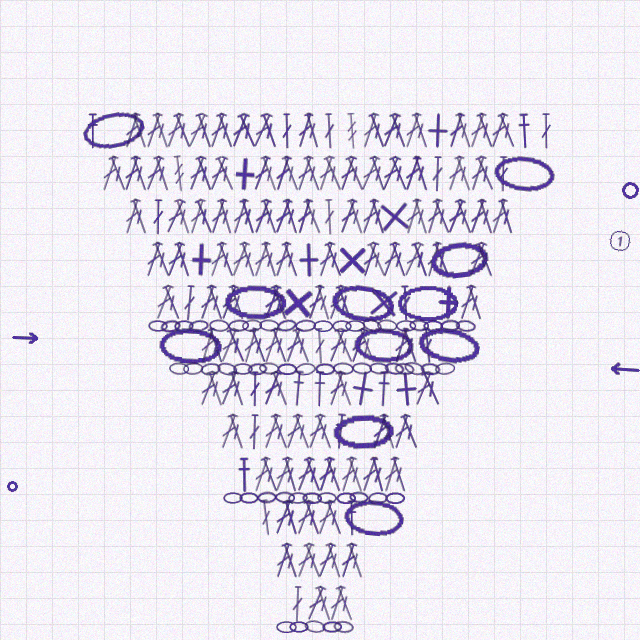chain: (80, 107, 147, 154), (415, 323, 482, 368), (329, 281, 396, 325), (492, 153, 557, 195), (428, 238, 491, 281), (342, 497, 405, 538), (158, 326, 222, 365), (353, 326, 415, 365), (332, 413, 394, 451), (224, 284, 286, 321), (397, 285, 458, 321), (403, 360, 426, 377), (361, 317, 383, 334), (216, 361, 238, 377), (304, 619, 326, 634), (276, 318, 298, 333), (384, 361, 405, 376), (333, 620, 354, 634), (200, 362, 221, 376), (247, 362, 268, 376), (295, 362, 316, 376), (394, 362, 415, 376), (420, 362, 441, 376), (160, 319, 181, 333), (188, 319, 209, 333), (455, 319, 476, 333), (333, 362, 354, 375), (228, 319, 249, 332), (295, 319, 316, 332), (257, 491, 277, 504), (275, 491, 295, 504), (349, 491, 369, 504), (169, 362, 189, 375), (183, 362, 203, 375), (259, 362, 279, 375), (352, 362, 372, 375), (369, 362, 389, 375), (435, 362, 455, 375), (209, 319, 229, 332), (242, 319, 262, 332), (259, 319, 279, 332), (377, 319, 397, 332), (409, 319, 429, 332), (440, 319, 460, 332), (276, 621, 297, 633), (289, 621, 309, 633), (322, 621, 342, 633), (223, 492, 243, 504), (239, 492, 259, 504), (288, 492, 308, 504), (302, 492, 322, 504), (317, 492, 337, 504), (336, 492, 356, 504), (368, 492, 388, 504), (385, 492, 405, 504), (233, 363, 253, 375), (277, 363, 297, 375), (315, 363, 335, 375), (148, 320, 168, 332), (174, 320, 194, 332), (313, 320, 333, 332), (332, 320, 352, 332), (345, 320, 365, 332), (396, 320, 416, 332), (423, 320, 443, 332)
double: (400, 241, 426, 278), (162, 198, 188, 235), (184, 112, 210, 149), (249, 112, 275, 149), (303, 585, 328, 622), (411, 370, 436, 407), (419, 370, 444, 407), (224, 327, 249, 364), (332, 327, 357, 364), (365, 241, 390, 278), (192, 198, 217, 235), (213, 155, 238, 192), (321, 155, 346, 192), (343, 155, 368, 192), (357, 155, 382, 192), (378, 155, 403, 192), (473, 155, 498, 192), (235, 112, 260, 149), (333, 585, 357, 622), (293, 542, 317, 579), (301, 542, 325, 579), (314, 542, 338, 579), (271, 499, 295, 536), (322, 499, 346, 536), (258, 456, 282, 493), (271, 456, 295, 493), (293, 456, 317, 493), (301, 456, 325, 493), (268, 413, 292, 450), (290, 413, 314, 450), (304, 413, 328, 450), (312, 413, 336, 450), (398, 413, 422, 450), (196, 370, 220, 407), (217, 370, 241, 407), (260, 370, 284, 407), (268, 370, 292, 407), (217, 327, 241, 364), (290, 327, 314, 364), (325, 327, 349, 364), (355, 327, 379, 364), (152, 284, 176, 321), (160, 284, 184, 321), (217, 284, 241, 321), (260, 284, 284, 321), (150, 241, 174, 278), (163, 241, 187, 278), (214, 241, 238, 278), (228, 241, 252, 278), (322, 241, 346, 278), (430, 241, 454, 278), (465, 241, 489, 278), (473, 241, 497, 278), (250, 198, 274, 235), (271, 198, 295, 235), (301, 198, 325, 235), (336, 198, 360, 235), (430, 198, 454, 235), (444, 198, 468, 235), (452, 198, 476, 235), (106, 155, 130, 192), (142, 155, 166, 192), (185, 155, 209, 192), (206, 155, 230, 192), (279, 155, 303, 192), (387, 155, 411, 192), (171, 112, 195, 149), (228, 112, 252, 149), (379, 112, 403, 149), (495, 112, 519, 149), (279, 542, 302, 579), (344, 542, 367, 579), (293, 499, 316, 536), (301, 499, 324, 536), (314, 499, 337, 536), (250, 456, 273, 493), (322, 456, 345, 493), (344, 456, 367, 493), (358, 456, 381, 493), (217, 413, 240, 450), (225, 413, 248, 450), (260, 413, 283, 450), (282, 413, 305, 450), (390, 413, 413, 450), (204, 370, 227, 407), (325, 370, 348, 407), (333, 370, 356, 407), (247, 327, 270, 364), (260, 327, 283, 364), (268, 327, 291, 364), (282, 327, 305, 364), (347, 327, 370, 364), (196, 284, 219, 321), (204, 284, 227, 321), (268, 284, 291, 321), (304, 284, 327, 321), (325, 284, 348, 321), (333, 284, 356, 321), (142, 241, 165, 278), (206, 241, 229, 278), (250, 241, 273, 278), (271, 241, 294, 278), (279, 241, 302, 278), (379, 241, 402, 278), (387, 241, 410, 278), (409, 241, 432, 278), (128, 198, 151, 235), (258, 198, 281, 235), (358, 198, 381, 235), (466, 198, 489, 235), (98, 155, 121, 192), (120, 155, 143, 192), (128, 155, 151, 192), (193, 155, 216, 192), (250, 155, 273, 192), (258, 155, 281, 192), (293, 155, 316, 192), (301, 155, 324, 192), (336, 155, 359, 192), (401, 155, 424, 192), (444, 155, 467, 192), (452, 155, 475, 192), (128, 112, 151, 149), (142, 112, 165, 149), (150, 112, 173, 149), (163, 112, 186, 149), (193, 112, 216, 149), (206, 112, 229, 149), (214, 112, 237, 149), (258, 112, 281, 149), (366, 112, 389, 149), (387, 112, 410, 149), (401, 112, 424, 149), (409, 112, 432, 149), (466, 112, 489, 149), (474, 112, 497, 149), (487, 112, 510, 149), (313, 585, 335, 622), (326, 585, 348, 622), (272, 542, 294, 579), (323, 542, 345, 579), (337, 542, 359, 579), (280, 499, 302, 536), (315, 456, 337, 493), (337, 456, 359, 493), (380, 456, 402, 493), (388, 456, 410, 493), (369, 413, 391, 450), (377, 413, 399, 450), (226, 370, 248, 407), (205, 327, 227, 364), (399, 327, 421, 364), (226, 284, 248, 321), (456, 284, 478, 321), (464, 284, 486, 321), (172, 241, 194, 278), (237, 241, 259, 278), (259, 241, 281, 278), (315, 241, 337, 278), (359, 241, 381, 278), (121, 198, 143, 235), (172, 198, 194, 235), (186, 198, 208, 235), (207, 198, 229, 235), (229, 198, 251, 235), (237, 198, 259, 235), (280, 198, 302, 235), (345, 198, 367, 235), (367, 198, 389, 235), (402, 198, 424, 235), (410, 198, 432, 235), (423, 198, 445, 235), (475, 198, 497, 235), (488, 198, 510, 235), (151, 155, 173, 192), (272, 155, 294, 192), (315, 155, 337, 192), (367, 155, 389, 192), (410, 155, 432, 192), (467, 155, 489, 192), (121, 112, 143, 149), (294, 112, 316, 149), (359, 112, 381, 149), (445, 112, 467, 149), (453, 112, 475, 149), (280, 456, 301, 493), (197, 327, 218, 364), (240, 327, 261, 364), (391, 327, 412, 364), (313, 284, 334, 321), (423, 241, 444, 278), (215, 198, 236, 235), (294, 198, 315, 235), (496, 198, 517, 235), (302, 112, 323, 149), (368, 456, 388, 493), (258, 499, 274, 536), (420, 327, 435, 364), (182, 285, 197, 321), (313, 328, 327, 364), (291, 586, 304, 622), (248, 414, 261, 450), (399, 285, 412, 321), (323, 199, 336, 235), (431, 156, 444, 192), (323, 113, 336, 149), (249, 371, 261, 407), (152, 199, 164, 235), (497, 156, 509, 192), (281, 113, 293, 149), (540, 113, 552, 149)
half_double: (332, 413, 349, 450), (290, 370, 306, 407), (312, 371, 327, 407), (376, 371, 391, 407), (517, 113, 532, 149), (237, 457, 251, 493), (345, 500, 358, 536), (86, 113, 99, 149)
noise: (606, 227, 634, 255), (619, 179, 640, 201), (608, 362, 640, 376), (11, 332, 40, 344), (5, 479, 19, 493)
single: (342, 368, 383, 409), (278, 283, 317, 322), (364, 283, 403, 322), (375, 197, 414, 236), (387, 370, 425, 408), (225, 155, 263, 193), (430, 284, 467, 321), (182, 241, 219, 278), (419, 112, 456, 149), (291, 242, 327, 278), (334, 242, 370, 278)
treble: (171, 155, 187, 192), (345, 113, 359, 149)
